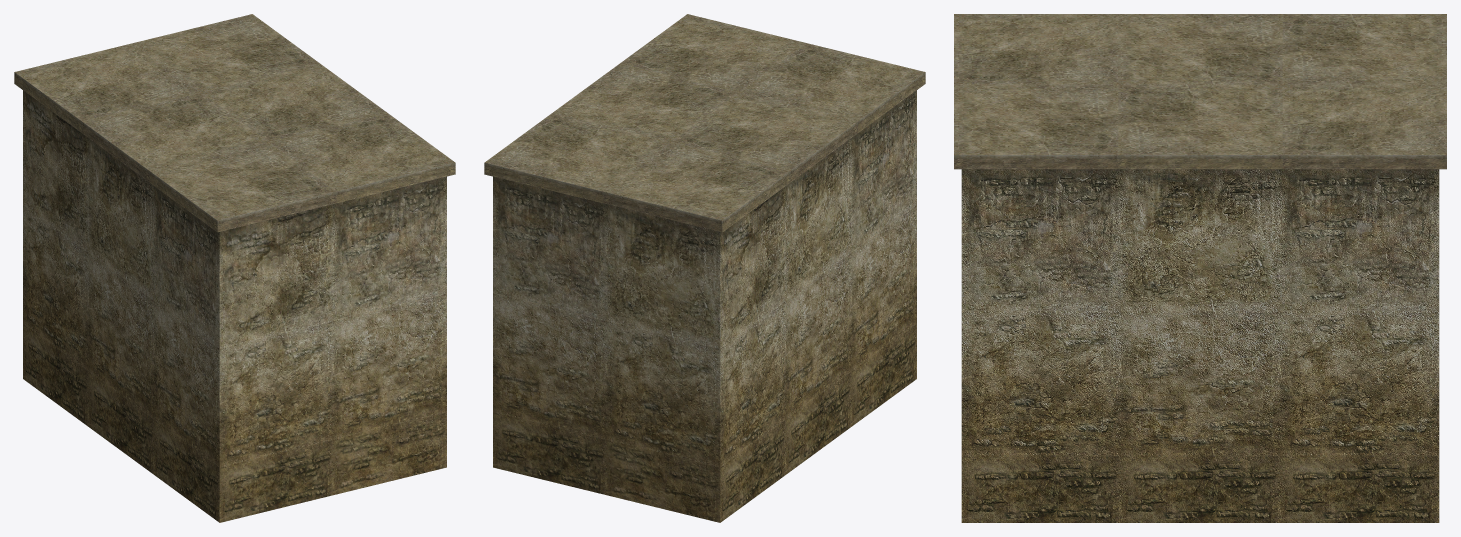
The model's file is hrt_house6.glb.
3 renders of one model, left to right at view 1: azimuth 30°, elevation 25°; view 2: azimuth 150°, elevation 25°; view 3: azimuth 270°, elevation 25°, orthographic. The views are drawn at different scales.
Parts seen in each view (by area): view 1: hrt_house6; view 2: hrt_house6; view 3: hrt_house6.
Boxes of the visible parts, box(x1,y1,x2,y2) form: hrt_house6: box(14, 14, 455, 522); hrt_house6: box(484, 14, 925, 522); hrt_house6: box(954, 14, 1446, 522).
Bounding box in the file's own units: 6.28 × 7.72 × 9.28.
8 materials, 8 textured.
